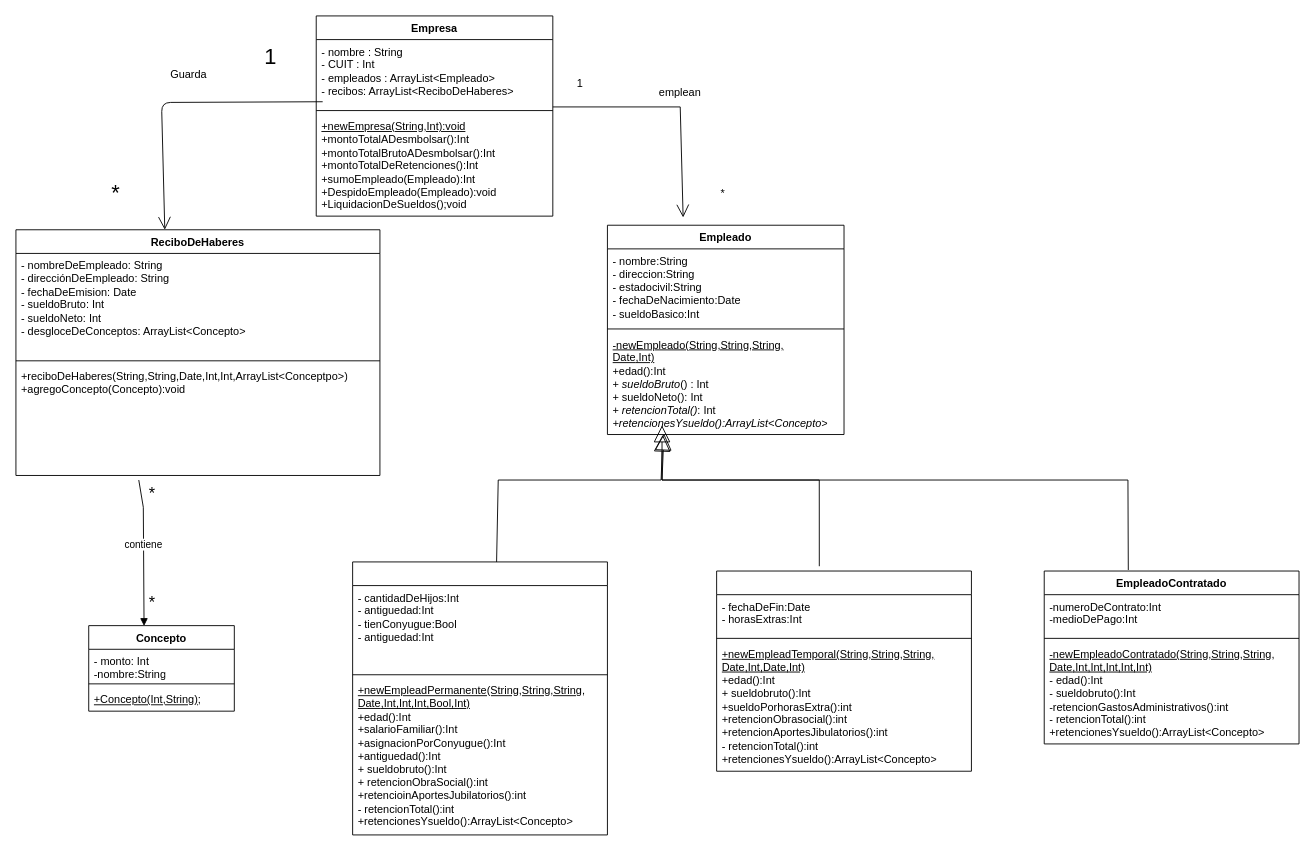
The diagram is 1315 pixels wide and 854 high, and some of its shapes have lost their labels. The shapes that lost their labels are listed below. From the top down, each one's box as (x1, y1, x2, y2) in pixels, then its label:
(716, 570, 971, 771): EmpleadoDePlantaTemporaria
(352, 561, 607, 835): EmpleadoDePlantaPermanente
